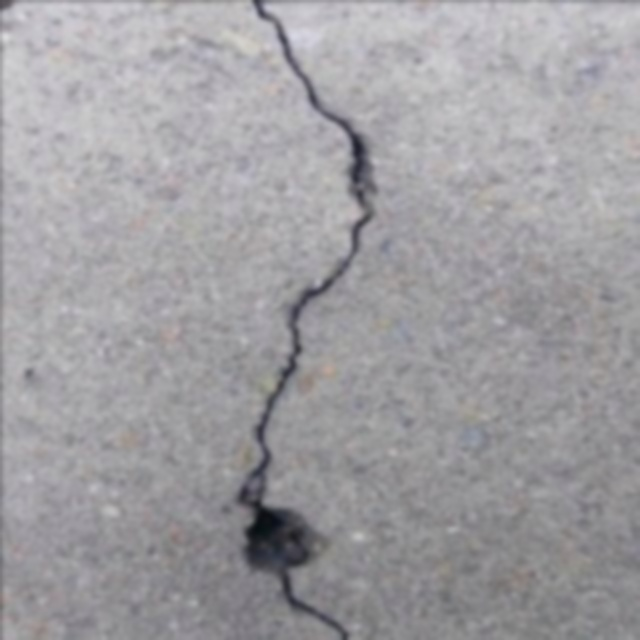SurfaceCrack: (206, 14, 384, 640)
